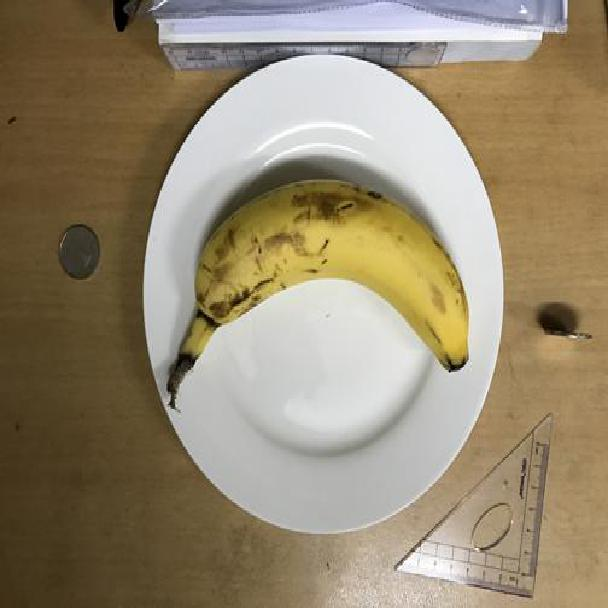banana: (173, 179, 475, 373)
